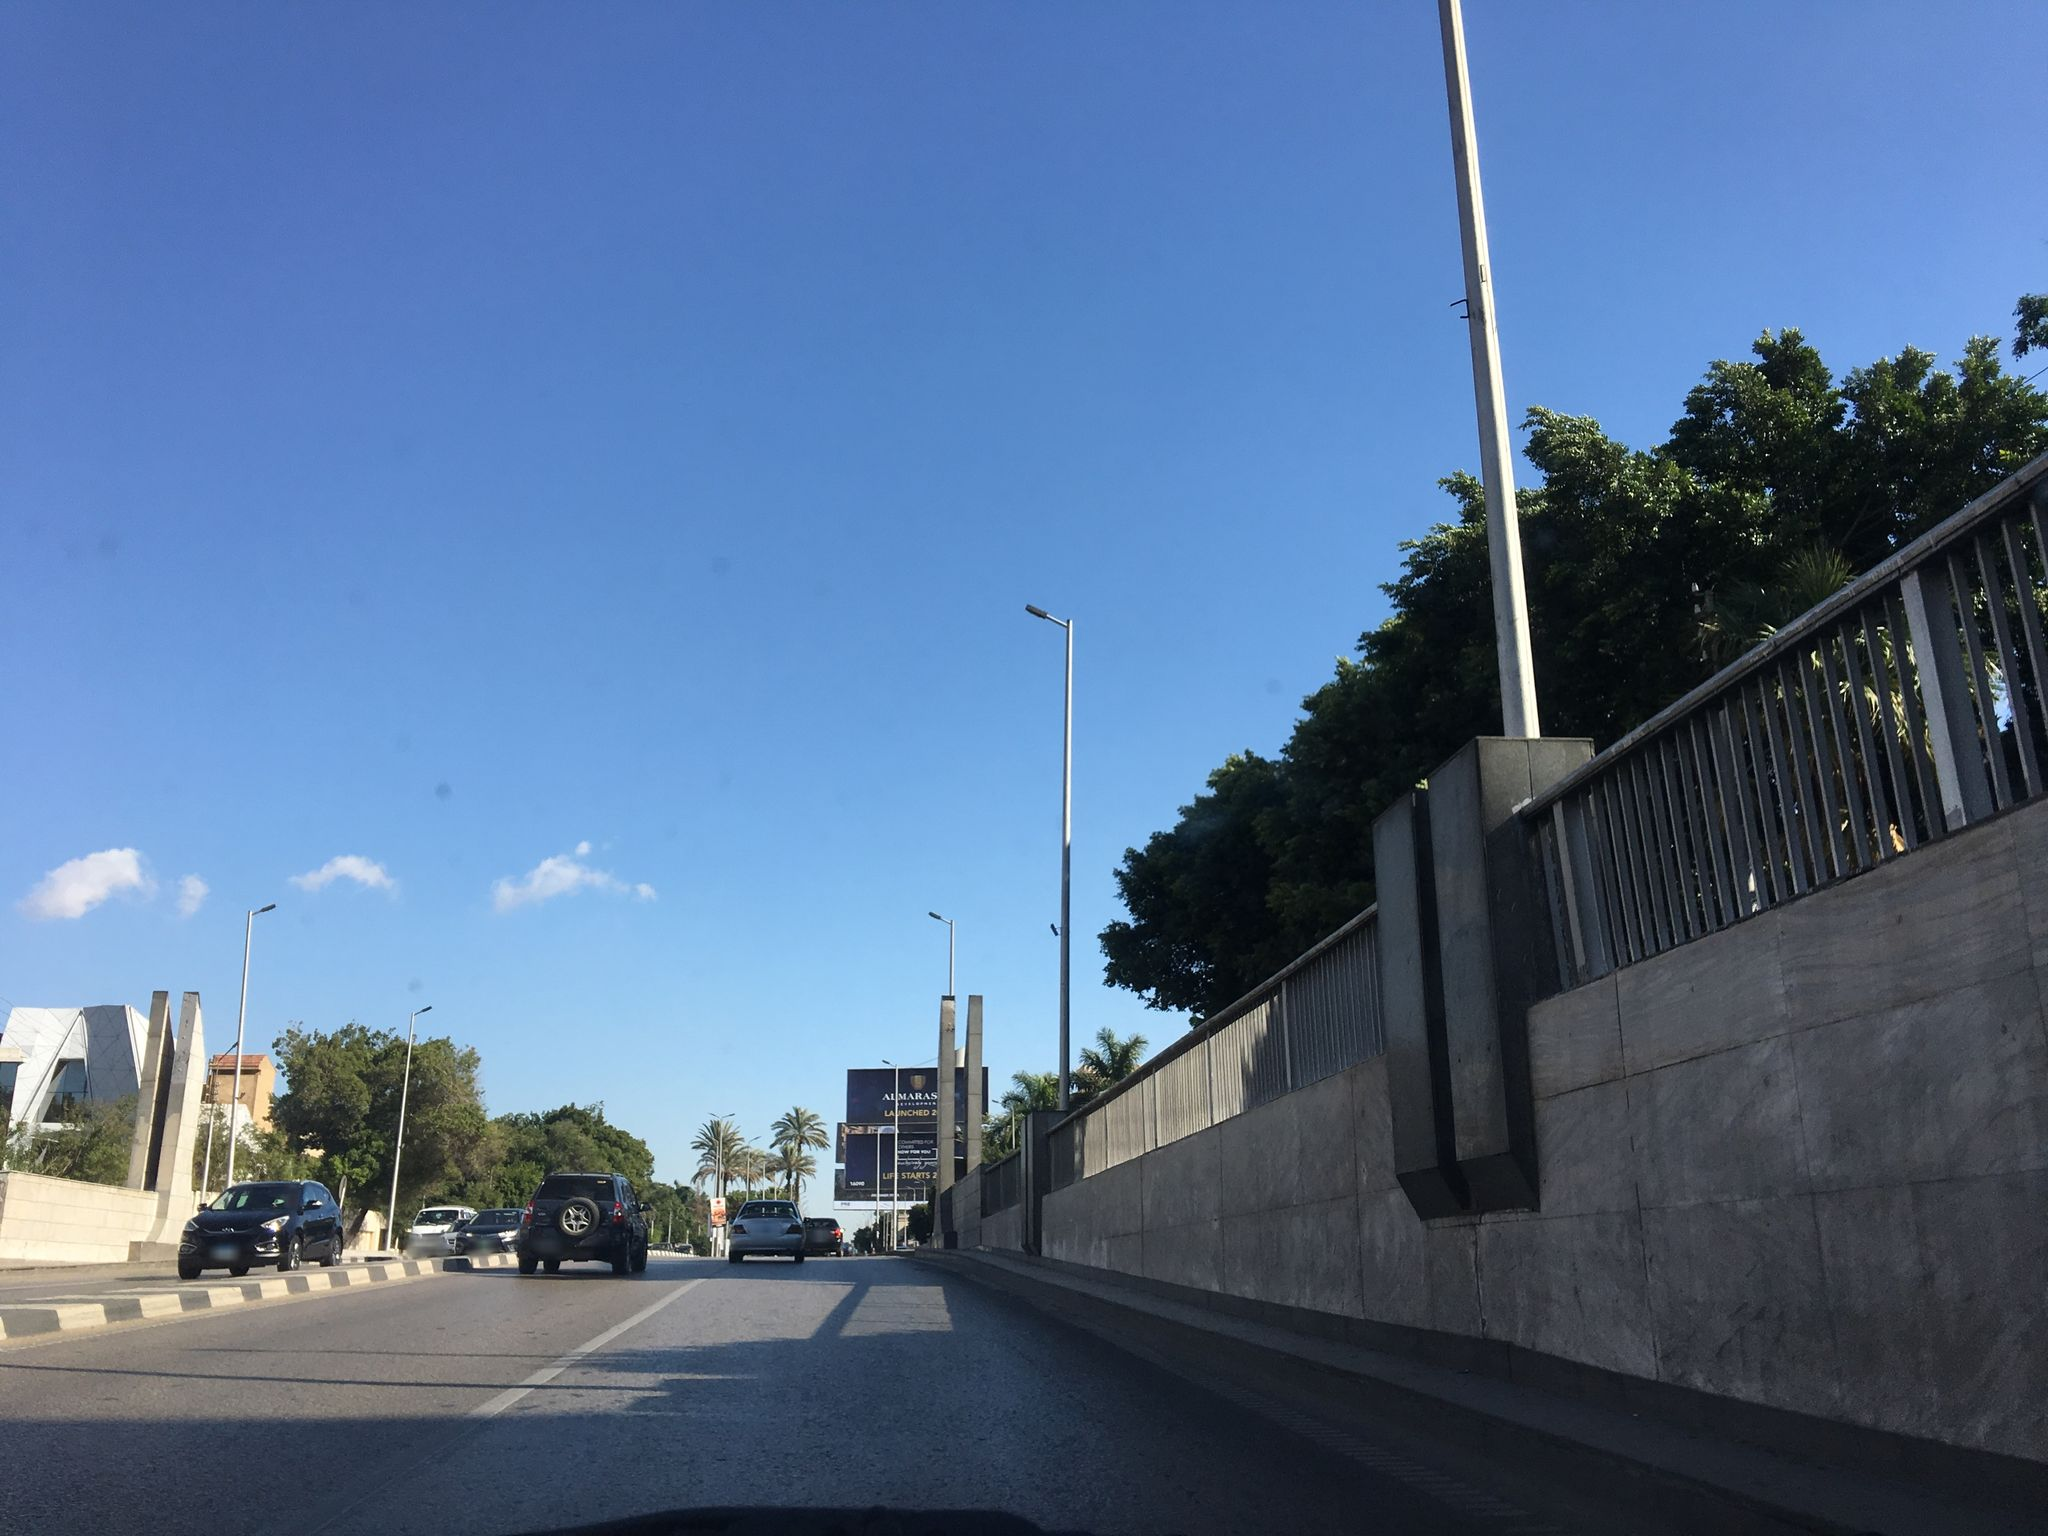car: (176, 1181, 343, 1275), (514, 1170, 655, 1275), (726, 1199, 811, 1262), (455, 1207, 526, 1255), (408, 1204, 476, 1252), (803, 1217, 843, 1257), (439, 1218, 472, 1250)
